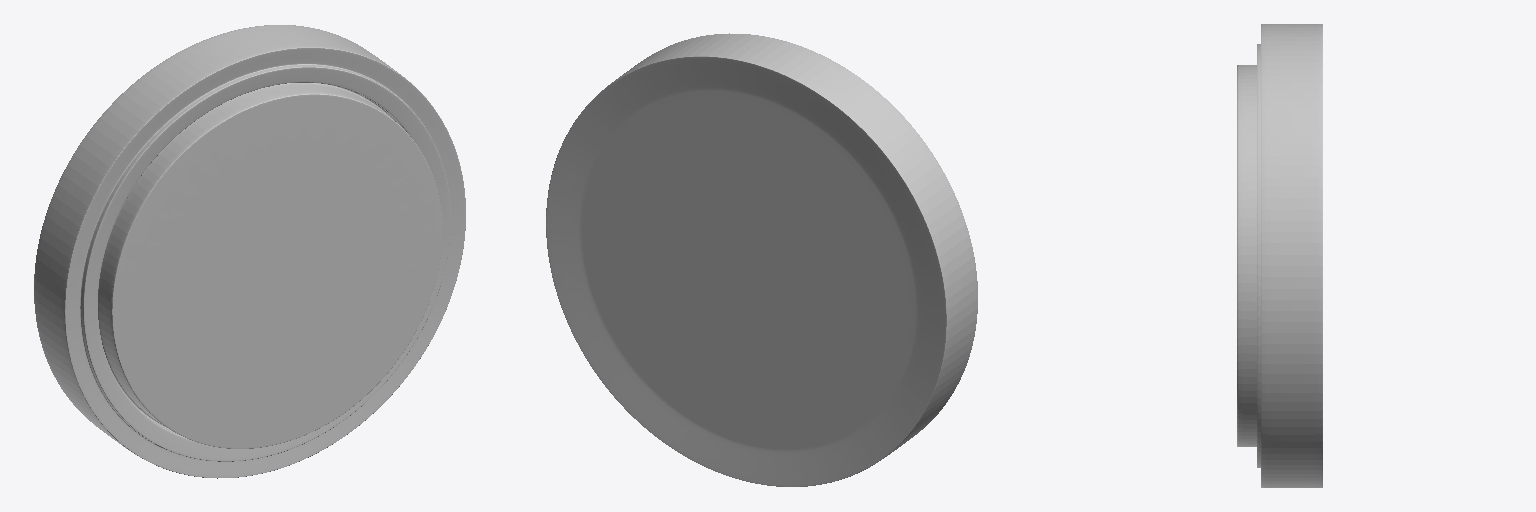
Rendered from round stone dooor.obj.
The picture shows the model from 3 angles: view 1: azimuth 30°, elevation 25°; view 2: azimuth 150°, elevation 25°; view 3: azimuth 270°, elevation 25°; orthographic projection.
Visible parts, largest first — view 1: Cylinder; view 2: Cylinder; view 3: Cylinder.
Boxes of the visible parts, box(x1,y1,x2,y2) form: Cylinder: box(34, 25, 465, 478); Cylinder: box(546, 33, 977, 486); Cylinder: box(1237, 24, 1322, 487).
Bounding box in the file's own units: 1.43 × 1.43 × 0.2658.